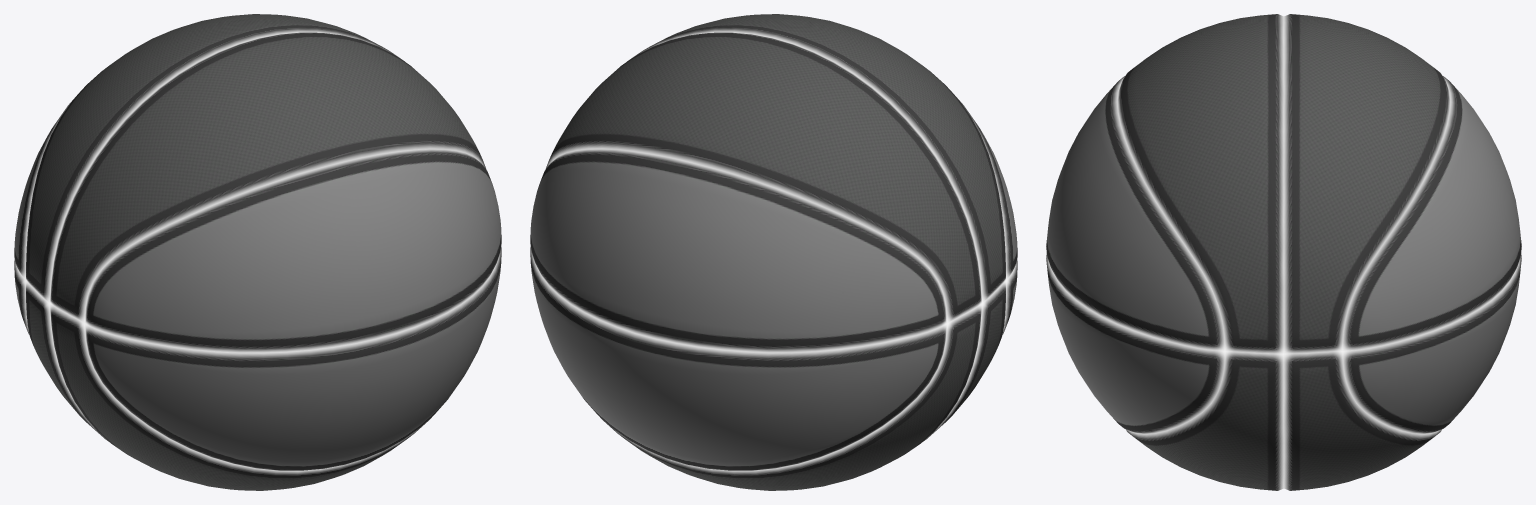
Rendered from ball_basketball.draco.glb.
3 renders of one model, left to right at view 1: azimuth 30°, elevation 25°; view 2: azimuth 150°, elevation 25°; view 3: azimuth 270°, elevation 25°, orthographic.
Visible parts, largest first — view 1: Ball_Basketball_SM.mo; view 2: Ball_Basketball_SM.mo; view 3: Ball_Basketball_SM.mo.
Part boxes in pixels (x1,y1,x2,y2): Ball_Basketball_SM.mo: (14,14,501,490); Ball_Basketball_SM.mo: (530,14,1017,490); Ball_Basketball_SM.mo: (1046,14,1521,490).
Bounding box in the file's own units: 192 × 189 × 189.
Materials: 1 (1 with a texture image).
